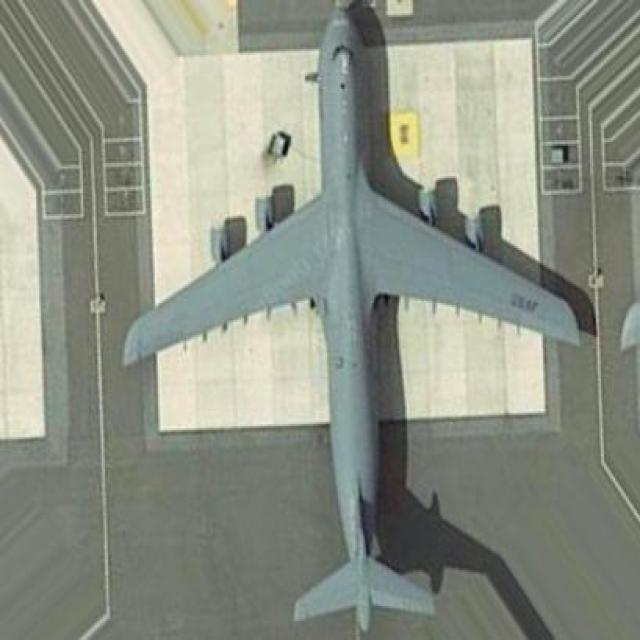C-5_TopDown: (120, 0, 600, 640)
